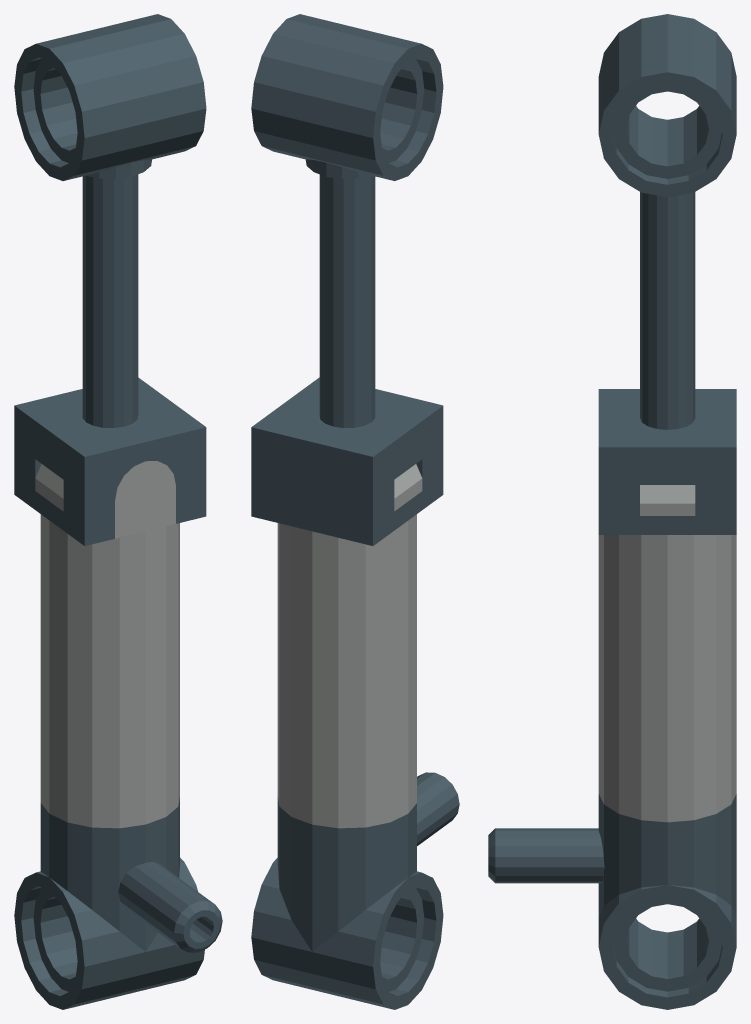
3 views of the same model, side by side, from view 1: azimuth 30°, elevation 25°; view 2: azimuth 150°, elevation 25°; view 3: azimuth 270°, elevation 25° (orthographic).
Parts seen in each view (by area): view 1: world; view 2: world; view 3: world.
Boxes of the visible parts, box(x1,y1,x2,y2) form: world: box(14, 14, 222, 1009); world: box(251, 14, 459, 1009); world: box(488, 14, 736, 1009).
Bounding box in the file's own units: 0.008 × 0.06 × 0.0144.
